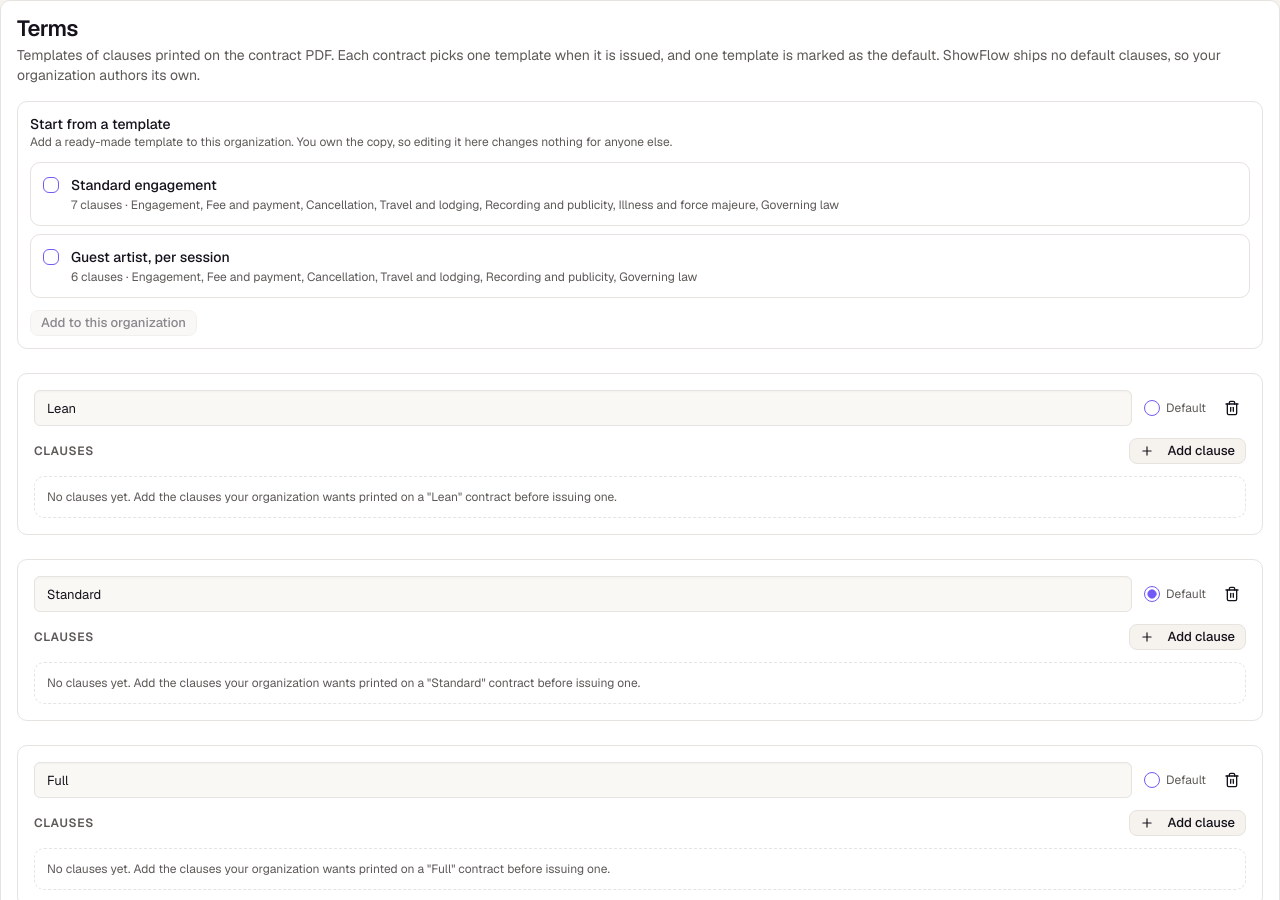
it: TermsVariantsCard › deleting a non-default template leaves the default unchanged
Check: the field showing "Lean" is shown, box [34,390,1132,426]
Step 1. Click the button named "delete " → [1232, 408], box [1218,394,1246,422]
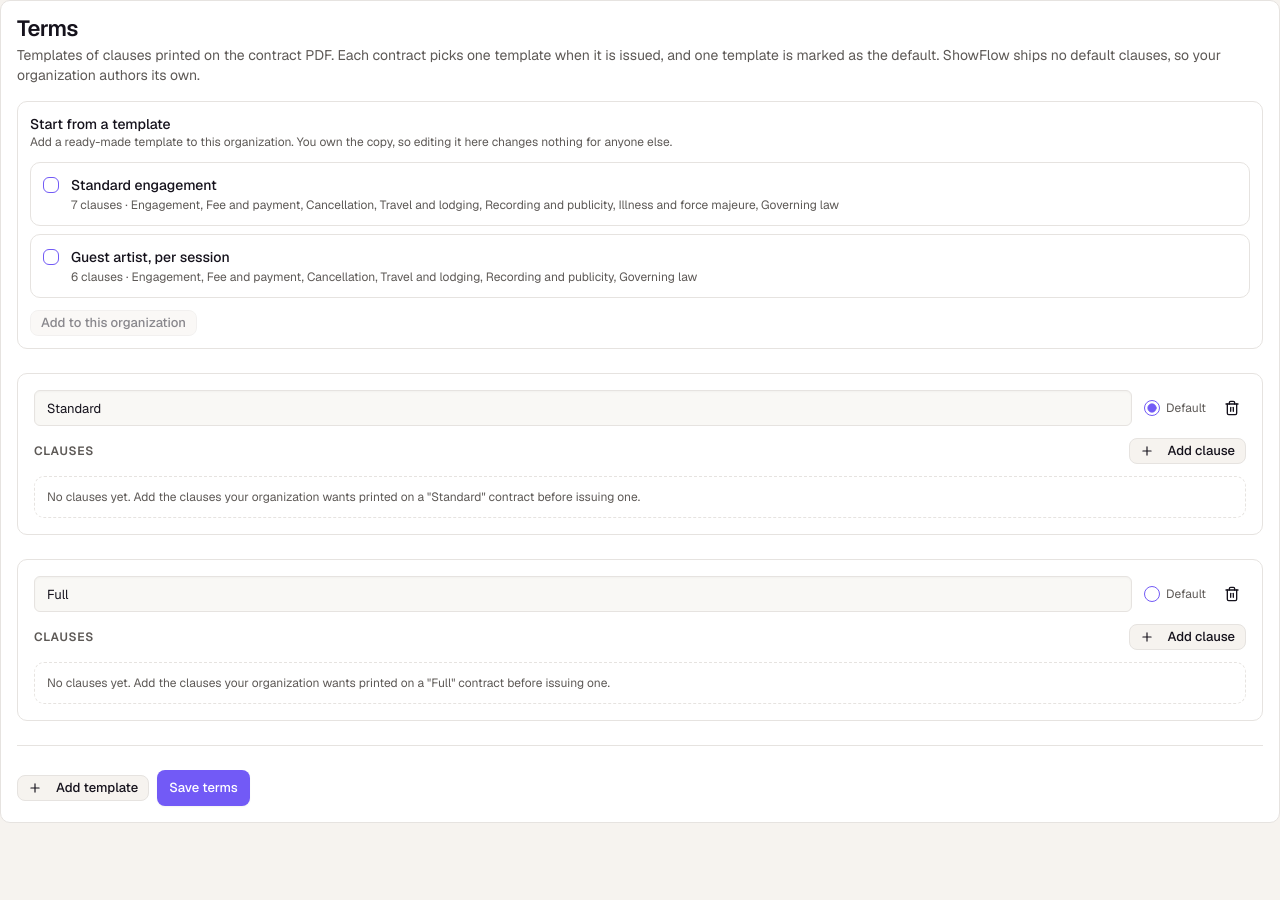
Check: the text showing "Lean" is gone
